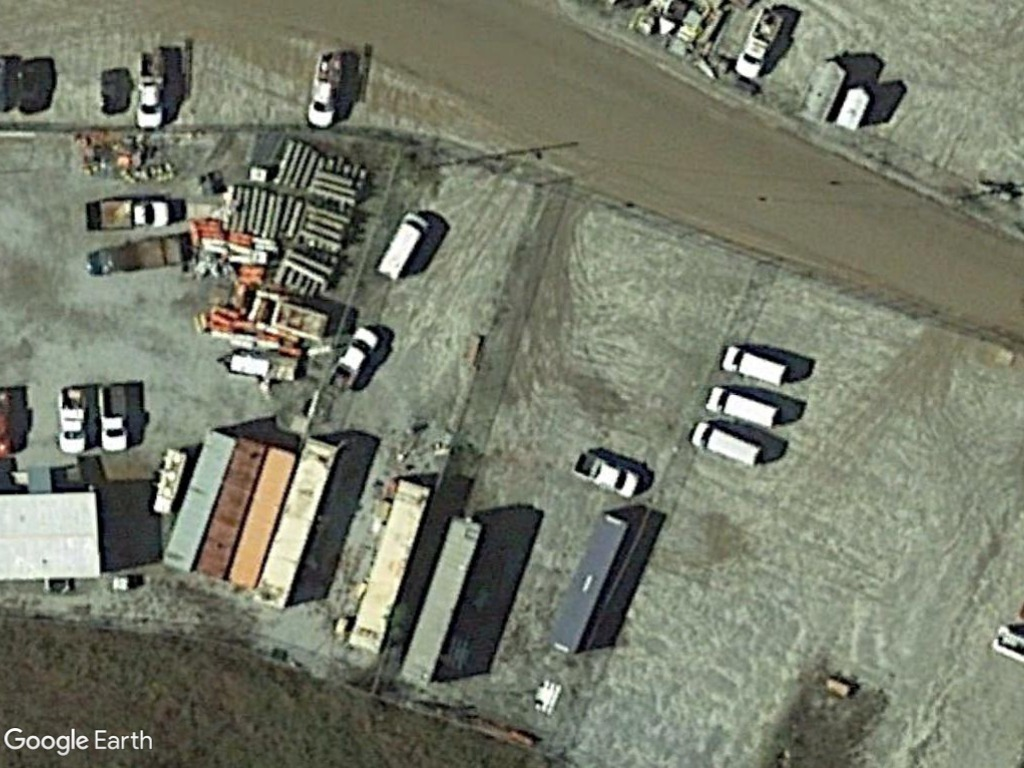other: (569, 448, 642, 503), (50, 381, 90, 454), (93, 376, 130, 453)
van: (372, 205, 432, 285), (700, 382, 781, 433), (688, 419, 765, 471), (714, 340, 793, 389)
